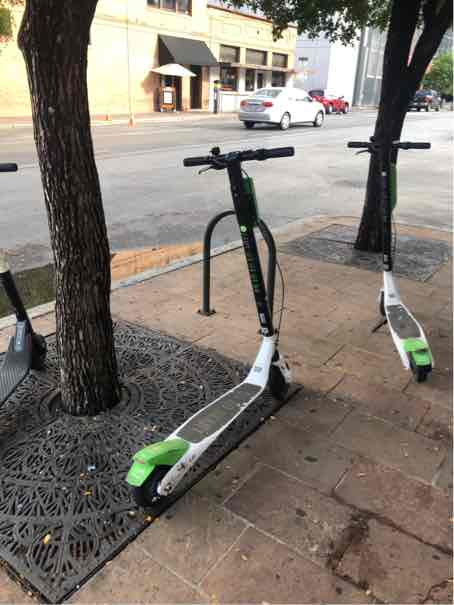scooter: (134, 141, 298, 510), (358, 151, 442, 384)
